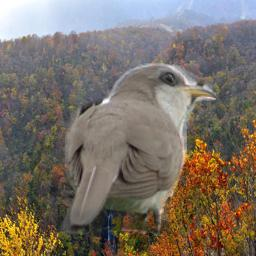Cuckoo: (58, 63, 216, 236)
